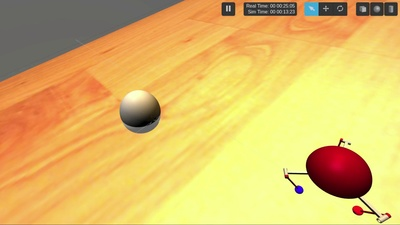mira_robot: (120, 90, 161, 133)
